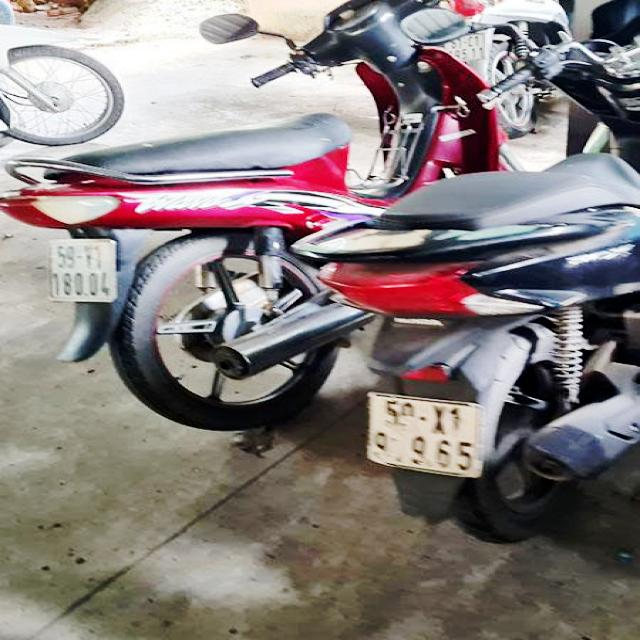license_plate: (367, 394, 481, 477), (50, 242, 119, 303)
